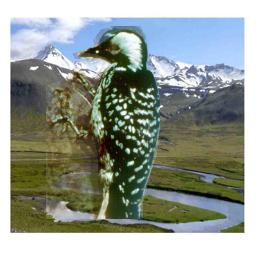Woodpecker: (46, 26, 160, 219)
